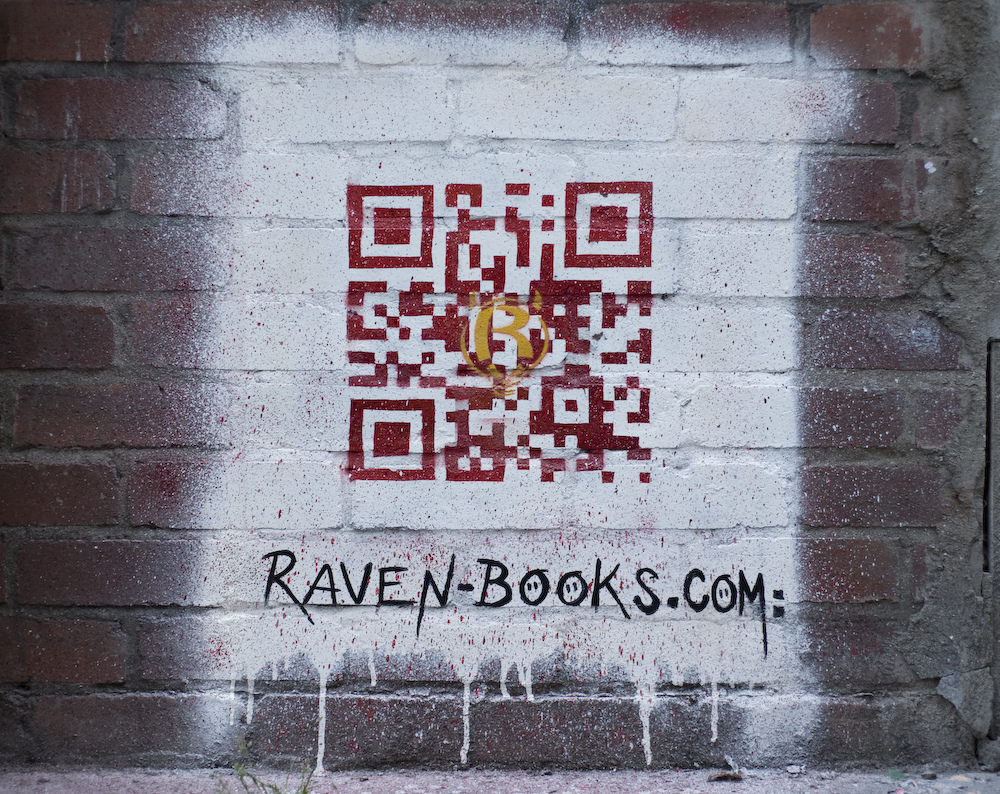QR-CODE: (347, 182, 652, 482)
